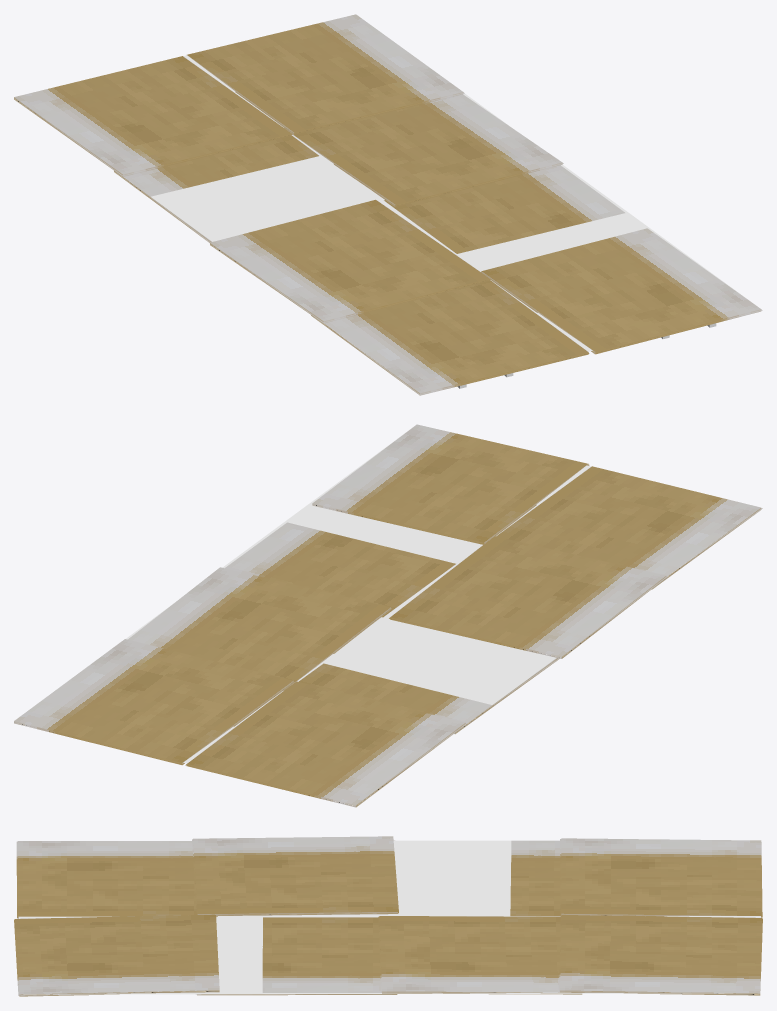
Rendered from objects_un_base_board01.gltf.
3 views of the same model, one above another, from view 1: azimuth 30°, elevation 25°; view 2: azimuth 150°, elevation 25°; view 3: azimuth 270°, elevation 25° (orthographic). The views are drawn at different scales.
Visible parts, largest first — view 1: um_objects_un_base_board01_model_lod0Shape:objects_un_base_b (×2), um_objects_un_base_board01_model_lod1Shape:objects_un_base_b; view 2: um_objects_un_base_board01_model_lod0Shape:objects_un_base_b (×2), um_objects_un_base_board01_model_lod1Shape:objects_un_base_b; view 3: um_objects_un_base_board01_model_lod0Shape:objects_un_base_b (×2), um_objects_un_base_board01_model_lod1Shape:objects_un_base_b.
Boxes of the visible parts, x1,y1,x2,y2 form: um_objects_un_base_board01_model_lod0Shape:objects_un_base_b (×2): (14, 14, 761, 395); um_objects_un_base_board01_model_lod1Shape:objects_un_base_b: (14, 14, 762, 394); um_objects_un_base_board01_model_lod0Shape:objects_un_base_b (×2): (14, 424, 761, 807); um_objects_un_base_board01_model_lod1Shape:objects_un_base_b: (14, 465, 762, 807); um_objects_un_base_board01_model_lod0Shape:objects_un_base_b (×2): (14, 836, 761, 996); um_objects_un_base_board01_model_lod1Shape:objects_un_base_b: (14, 836, 762, 995).
Size of the model in its own units: 5.16 by 0.2446 by 10.44.
Materials: 3 (1 with a texture image).
